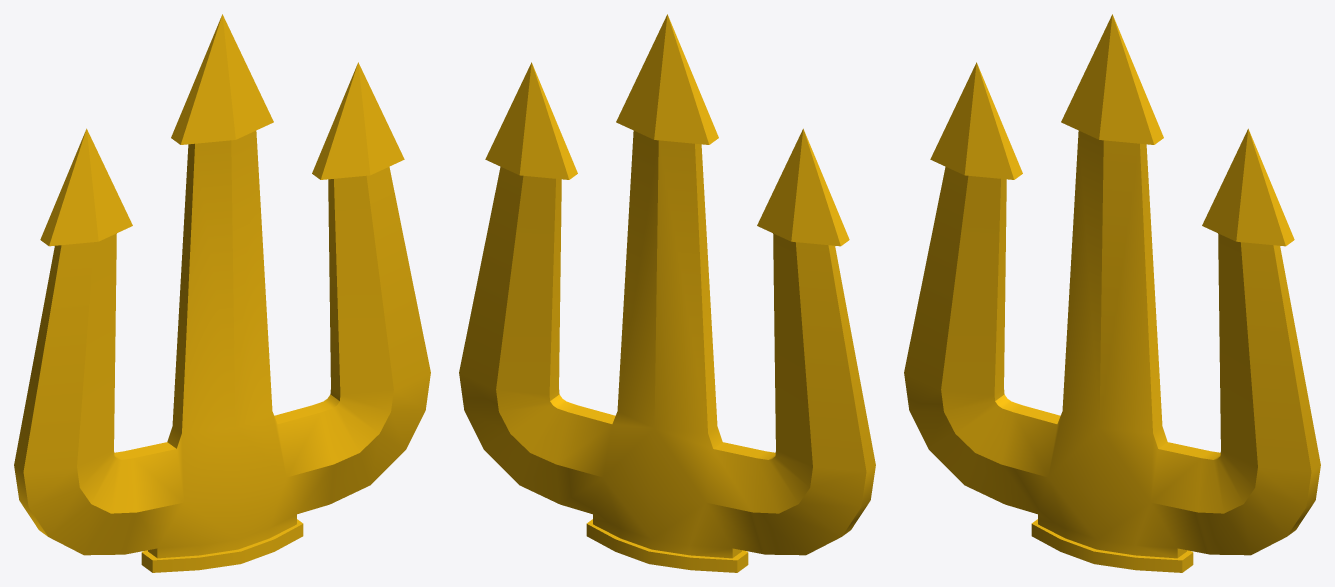
File: trident_emblem.glb
3 renders of one model, left to right at view 1: azimuth 30°, elevation 25°; view 2: azimuth 150°, elevation 25°; view 3: azimuth 330°, elevation 25°, orthographic.
Visible parts, largest first — view 1: Cube.6456; view 2: Cube.6456; view 3: Cube.6456.
Boxes of the visible parts, x1,y1,x2,y2 form: Cube.6456: [14, 14, 430, 572]; Cube.6456: [459, 14, 875, 572]; Cube.6456: [904, 14, 1320, 572].
Size of the model in its own units: 1.8 by 2.26 by 0.2837.
Materials: 1 (1 with a texture image).
